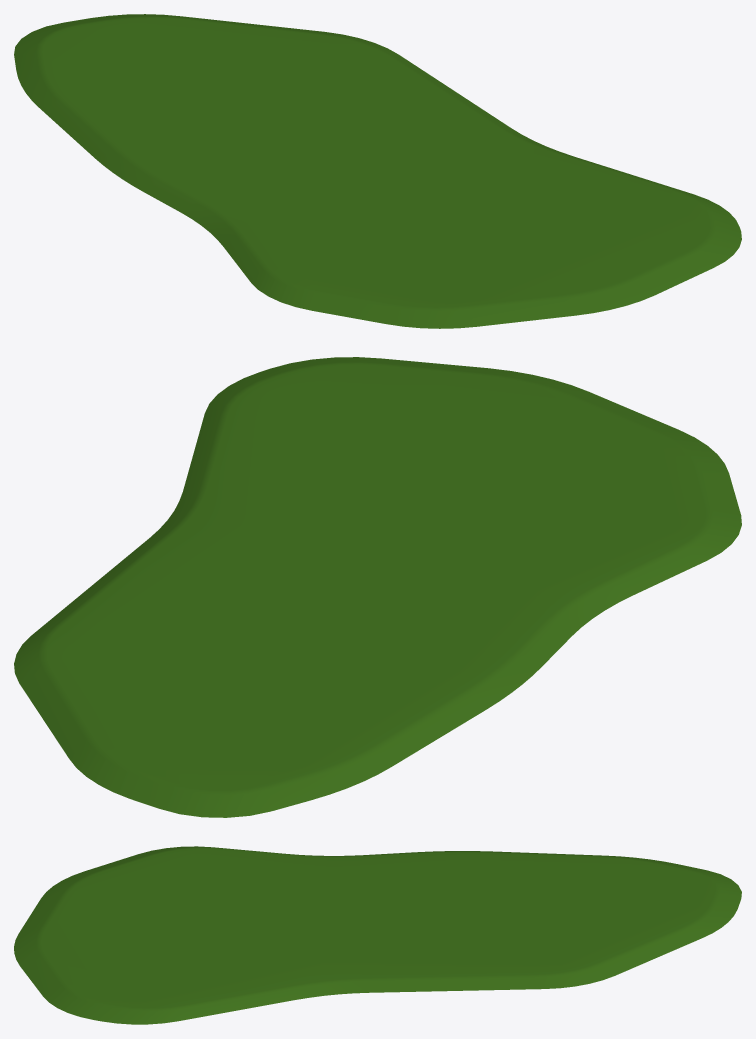
File: GroundPadding02_2.fbx
The picture shows the model from 3 angles, top to bottom: view 1: azimuth 30°, elevation 25°; view 2: azimuth 150°, elevation 25°; view 3: azimuth 270°, elevation 25°; orthographic projection. The views are drawn at different scales.
Visible parts, largest first — view 1: LOD0; view 2: LOD0; view 3: LOD0.
Part boxes in pixels (box(x1,y1,x2,y2)): LOD0: box(14, 14, 741, 328); LOD0: box(14, 357, 741, 817); LOD0: box(14, 846, 741, 1024).
Size of what is drawn, in the model's own units: 1167 by 2016 by 20.52.
1 material, 1 textured.
